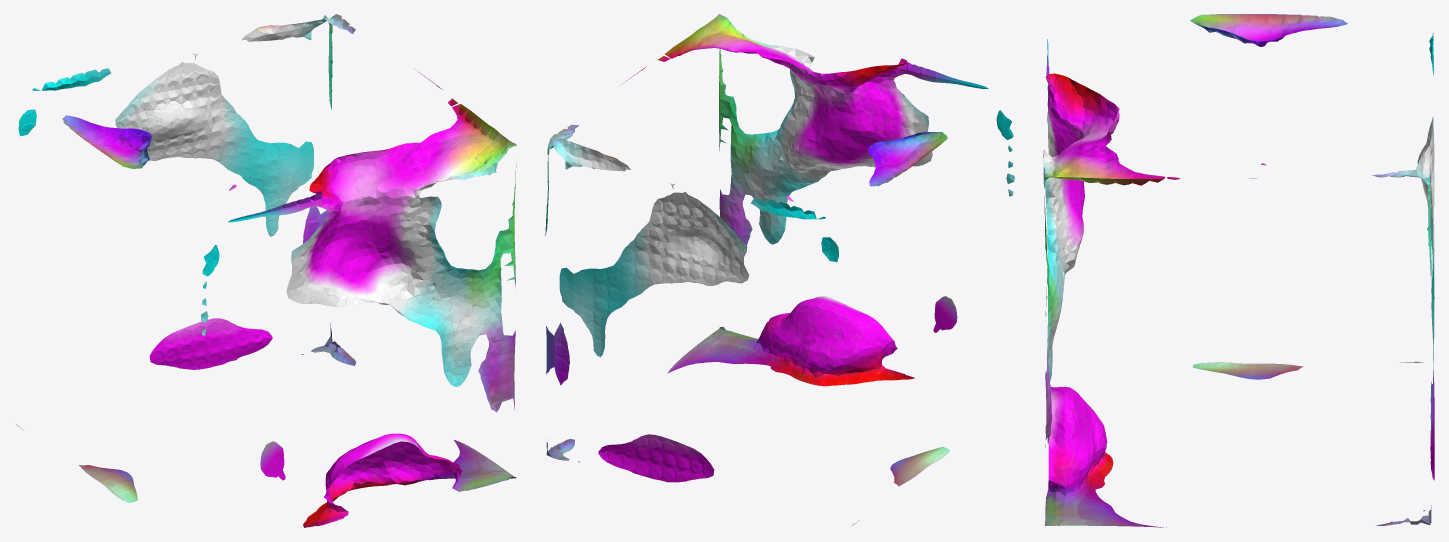
3 renders of one model, left to right at view 1: azimuth 30°, elevation 25°; view 2: azimuth 150°, elevation 25°; view 3: azimuth 270°, elevation 25°, orthographic. The views are drawn at different scales.
Bounding box in the file's own units: 1.01 × 1.01 × 1.01.
1 material, 1 textured.
